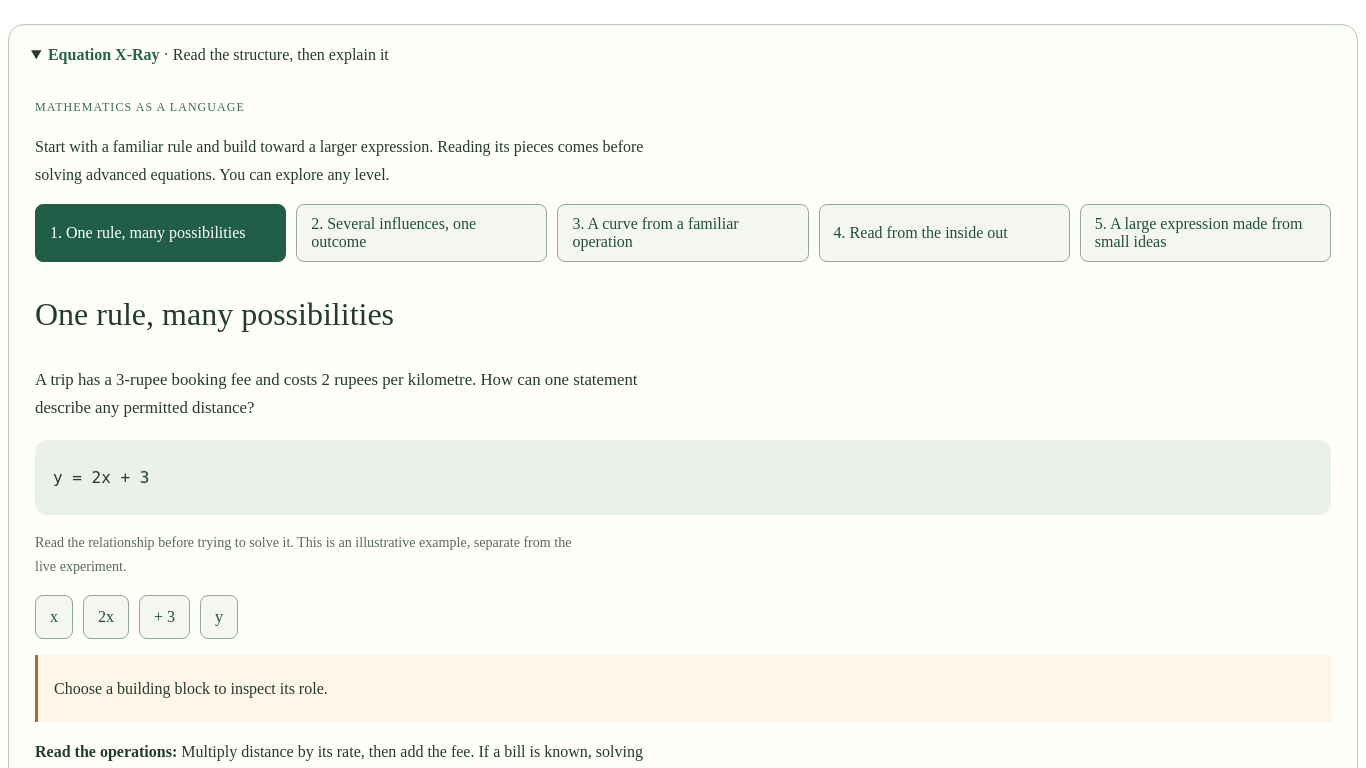
Equation literacy without new evidence or grading › progresses from a simple rule to nested functions and indexed sums without requiring advanced solving
Check: the text named "Reading example: y = 2x + 3" is shown, box [35,440,1331,515]
Click the button "5. A large expression made from small ideas".
click(1205, 233)  # box [1080,204,1331,262]
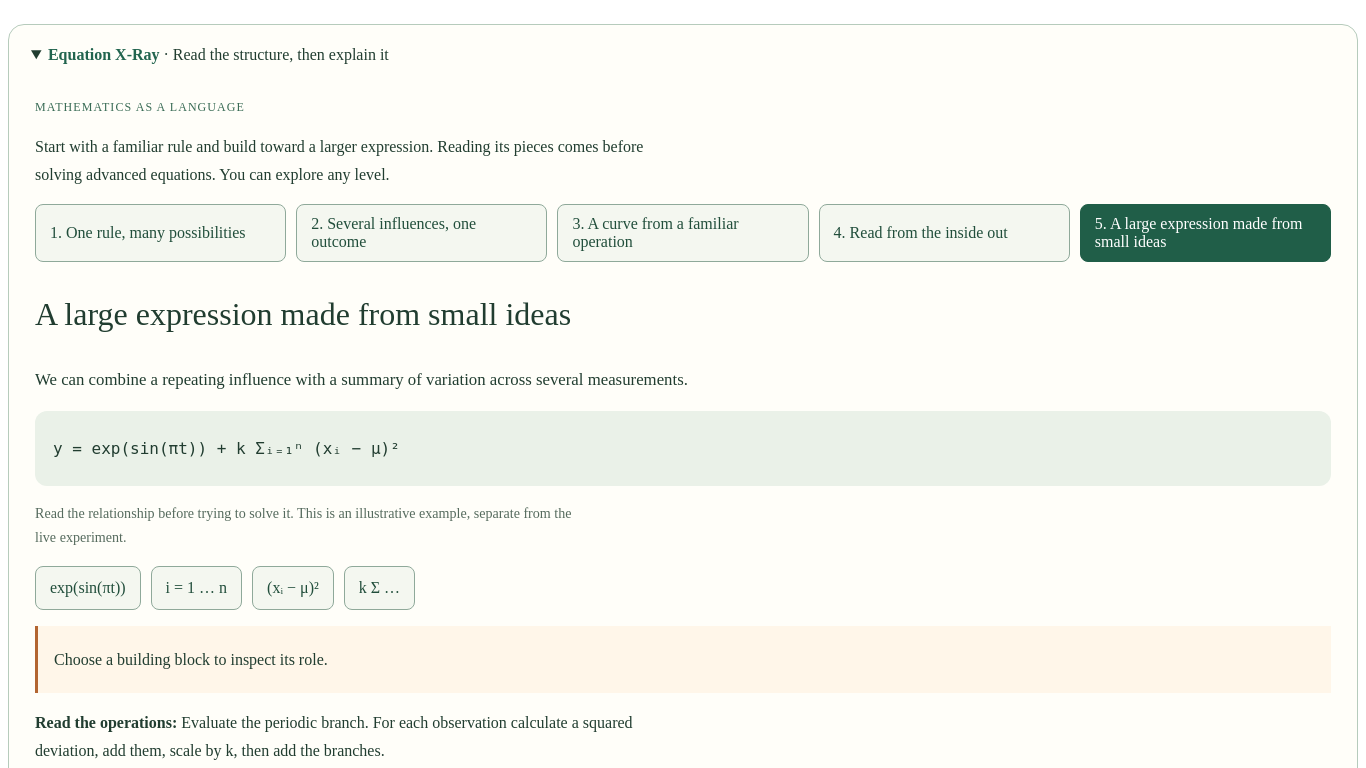
Click the button "i = 1 … n".
click(196, 588)  # box [151,566,242,610]
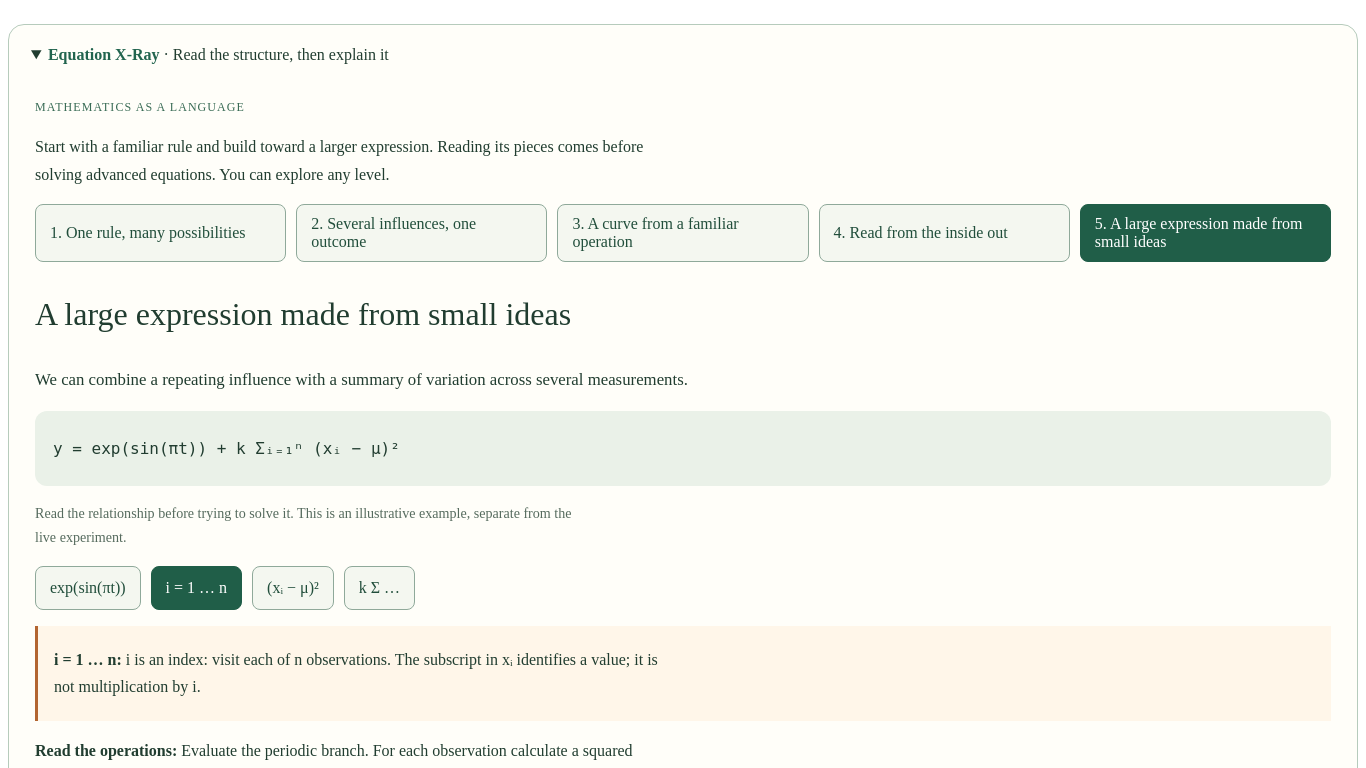
Check: the text "not multiplication by i" is shown, box [54,651,658,695]
Click the button "k Σ …".
click(379, 588)  # box [344,566,415,610]
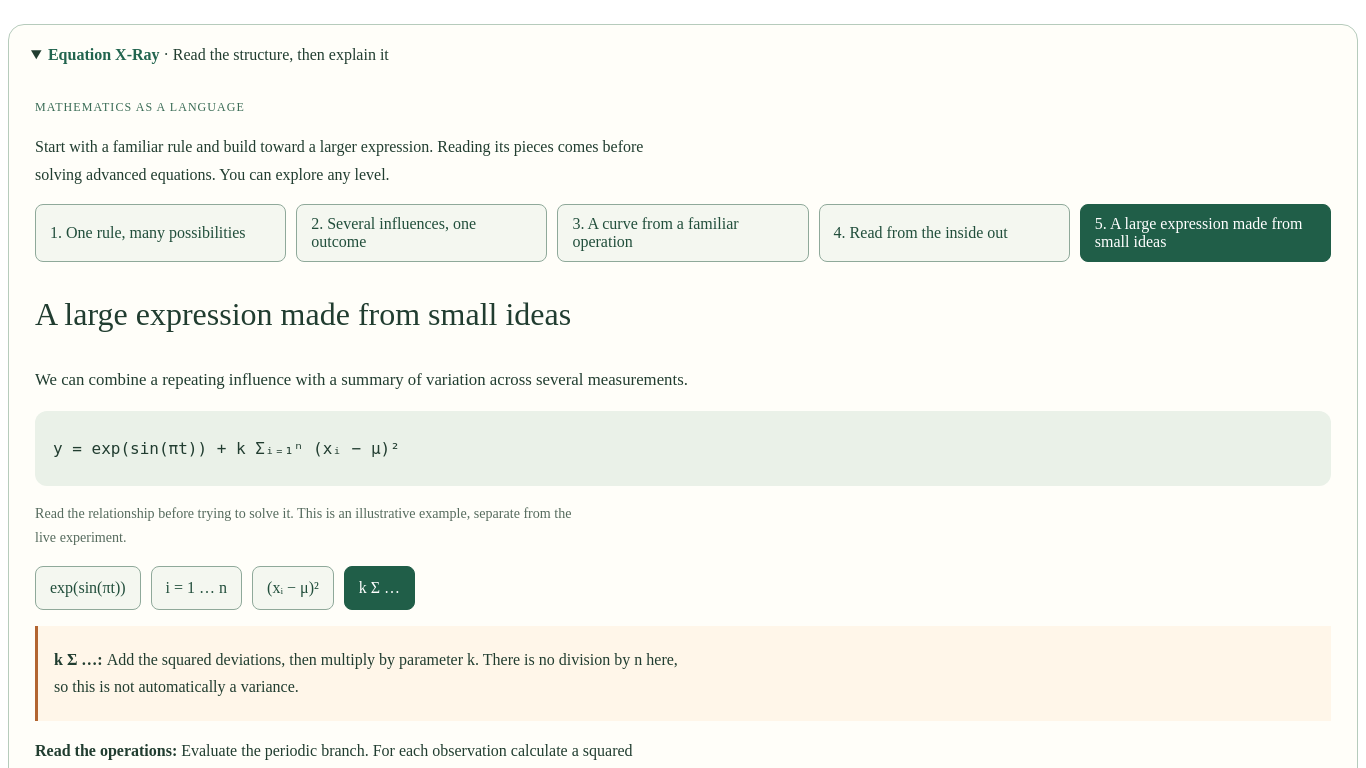
Check: the text "not automatically a variance" is shown, box [54,651,678,695]
